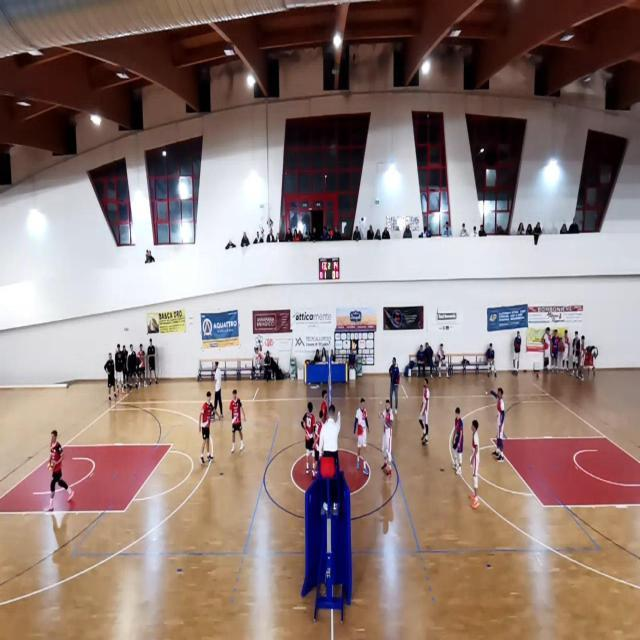volleyball: (47, 462, 54, 470)
